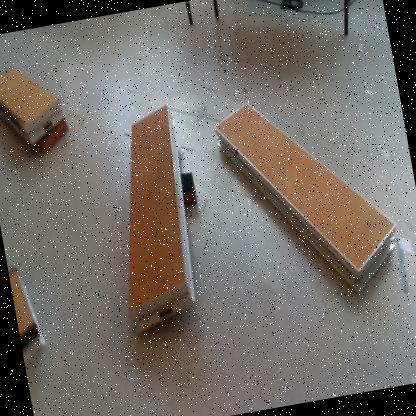Stairs: (216, 103, 397, 293), (130, 105, 196, 334), (1, 66, 65, 146), (9, 270, 47, 368)
